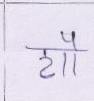ai_matra: (61, 31, 81, 49)
